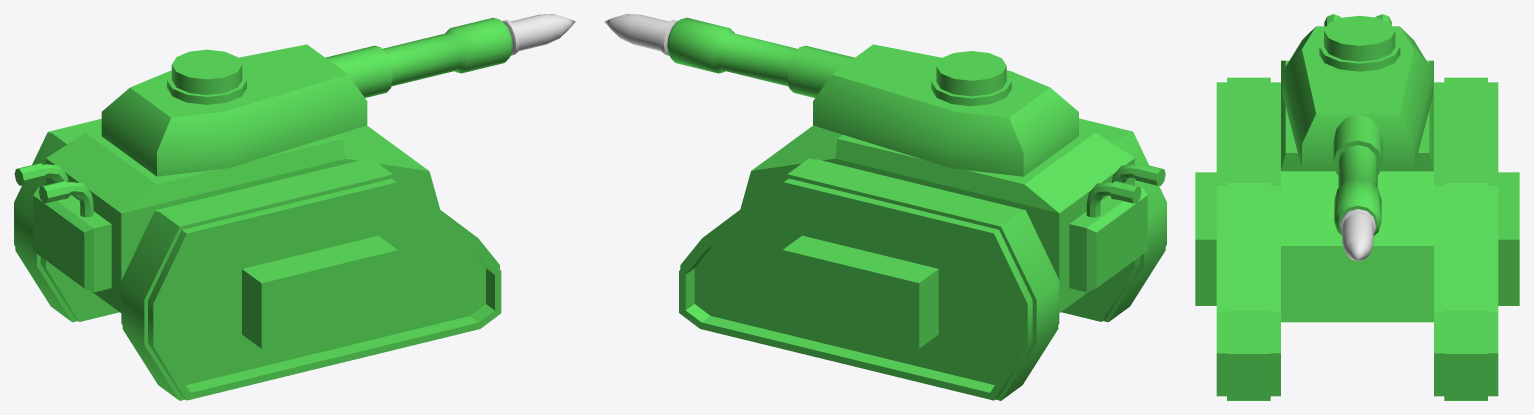
Rendered from lemun.FBX.
3 renders of one model, left to right at view 1: azimuth 30°, elevation 25°; view 2: azimuth 150°, elevation 25°; view 3: azimuth 270°, elevation 25°, orthographic.
Parts seen in each view (by area): view 1: Box003, turret, Cylinder001; view 2: Box003, turret, Cylinder001; view 3: Box003, turret, Cylinder001.
Part boxes in pixels (x1,y1,x2,y2): Box003: [14, 119, 501, 400]; turret: [101, 17, 512, 176]; Cylinder001: [503, 14, 575, 55]; Box003: [679, 118, 1166, 400]; turret: [667, 17, 1078, 176]; Cylinder001: [604, 14, 677, 55]; Box003: [1195, 14, 1519, 400]; turret: [1283, 15, 1432, 235]; Cylinder001: [1340, 209, 1375, 261].
Bounding box in the file's own units: 137 × 63.79 × 69.55.
